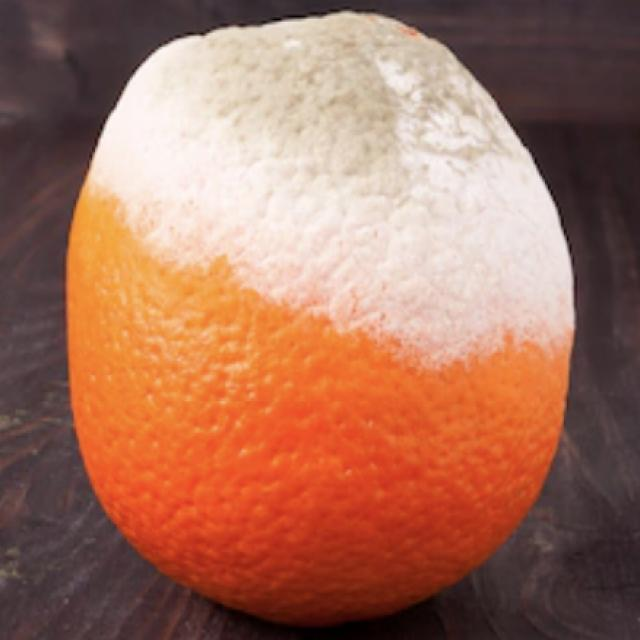rotten-orange: (67, 7, 579, 622)
